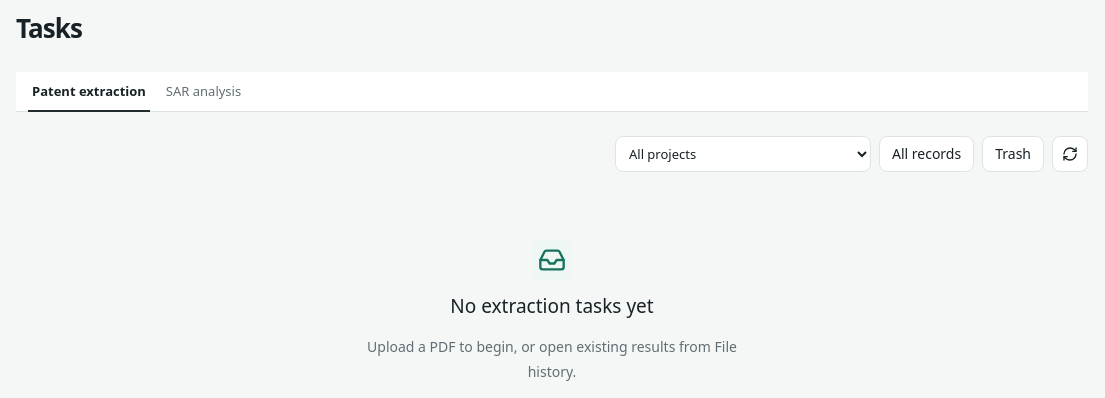
Test: loads SAR history only on its tab and opens the exact stored dataset/job without submitting work
What coordinates should you click on to do the following:
click the tab "SAR analysis"
I would click on:
 (204, 92)
Its box is [162,72,245,111].
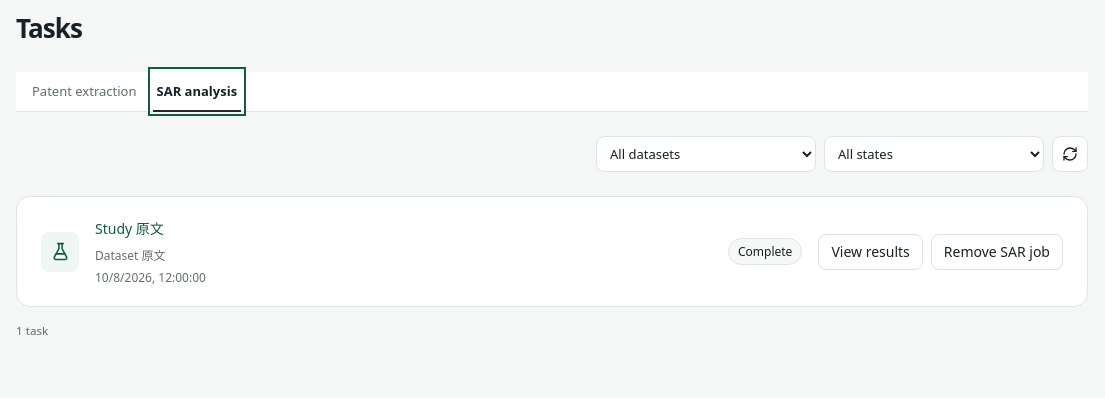
Now the button "View results" is enabled
Now the text "Dataset 原文" is shown, box [95,247,166,264]
What coordinates should you click on to do the following:
click the button "View results"
I would click on:
 (871, 252)
Its box is [818,234,923,270].
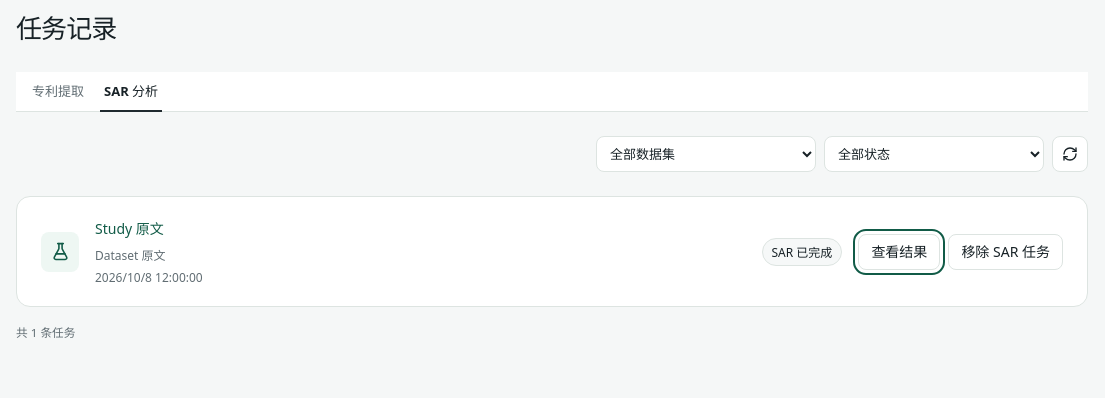
Now the button "Study 原文" is shown, box [95,217,164,241]
Now the button "查看结果" is enabled, box [858,234,940,270]
Now the tab "专利提取" is shown, box [28,72,88,111]
